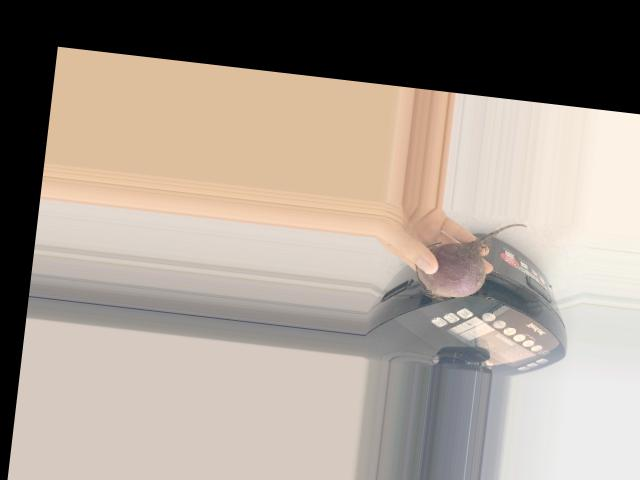beet: (413, 212, 527, 308)
